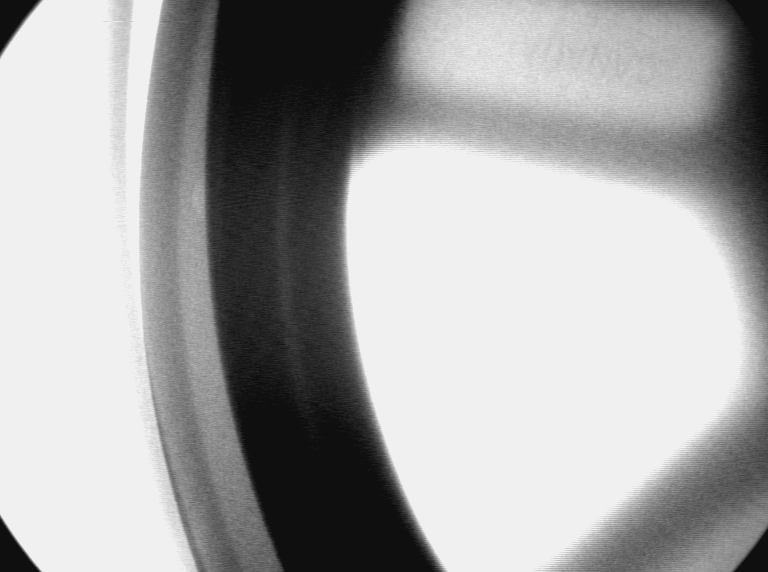defect: (187, 178, 209, 228)
